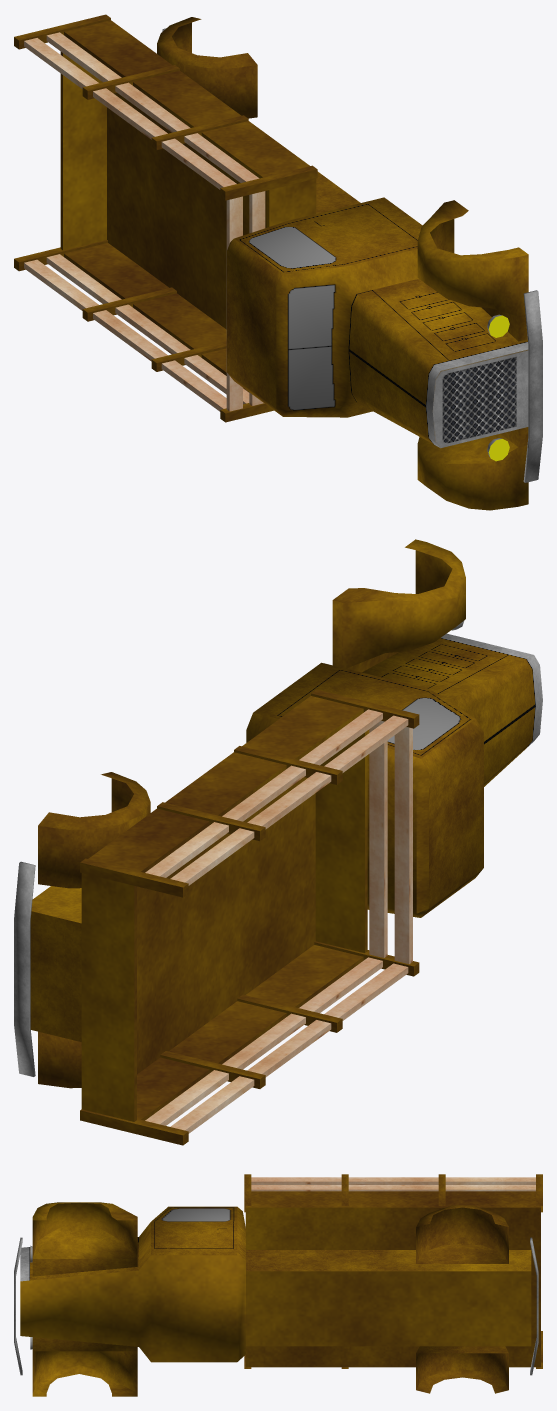
Rendered from esrt69truck_dead.dae.
3 renders of one model, top to bottom at view 1: azimuth 30°, elevation 25°; view 2: azimuth 150°, elevation 25°; view 3: azimuth 270°, elevation 25°, orthographic. The views are drawn at different scales.
Visible parts, largest first — view 1: base; view 2: base; view 3: base.
Boxes of the visible parts, box(x1,y1,x2,y2) form: base: box(14, 14, 542, 510); base: box(14, 539, 542, 1145); base: box(14, 1174, 542, 1396).
Size of the model in its own units: 11.91 by 49 by 18.01.
